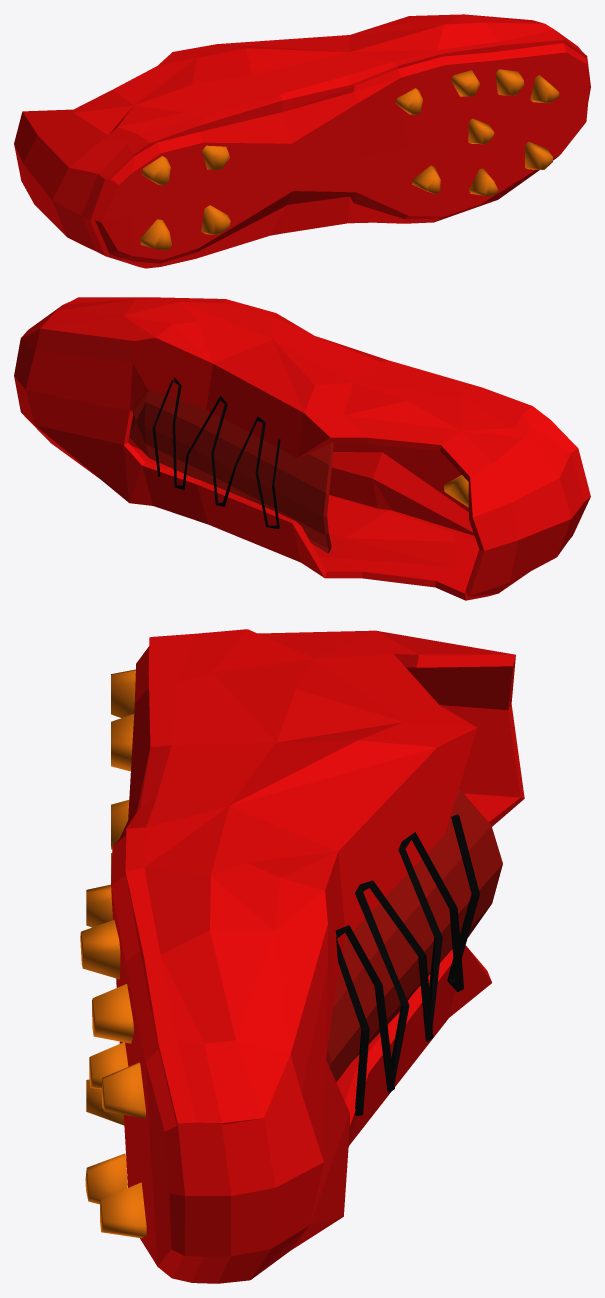
File: cleats.glb
The picture shows the model from 3 angles, top to bottom: view 1: azimuth 30°, elevation 25°; view 2: azimuth 150°, elevation 25°; view 3: azimuth 270°, elevation 25°; orthographic projection. The views are drawn at different scales.
Parts seen in each view (by area): view 1: Shoe, Pointy; view 2: Shoe, Plane.001, Plane, Pointy; view 3: Shoe, Plane.001, Pointy, Plane.
Part boxes in pixels (x1=…): Shoe: x1=14, y1=14, x2=590, y2=268; Pointy: x1=140, y1=69, x2=559, y2=250; Shoe: x1=14, y1=297, x2=590, y2=600; Plane.001: x1=129, y1=390, x2=333, y2=553; Plane: x1=152, y1=377, x2=280, y2=529; Pointy: x1=443, y1=475, x2=468, y2=507; Shoe: x1=111, y1=629, x2=524, y2=1283; Plane.001: x1=326, y1=790, x2=502, y2=1082; Pointy: x1=80, y1=669, x2=146, y2=1238; Plane: x1=335, y1=814, x2=479, y2=1116.
Size of the model in its own units: 1.73 by 0.5701 by 0.6406.
